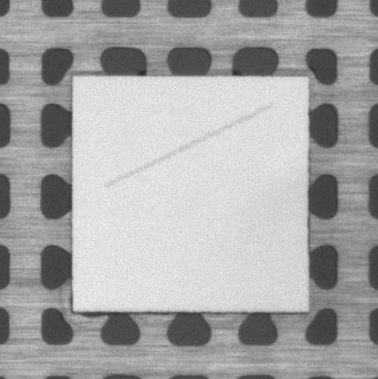DIE_CRACK: (105, 106, 270, 186)
